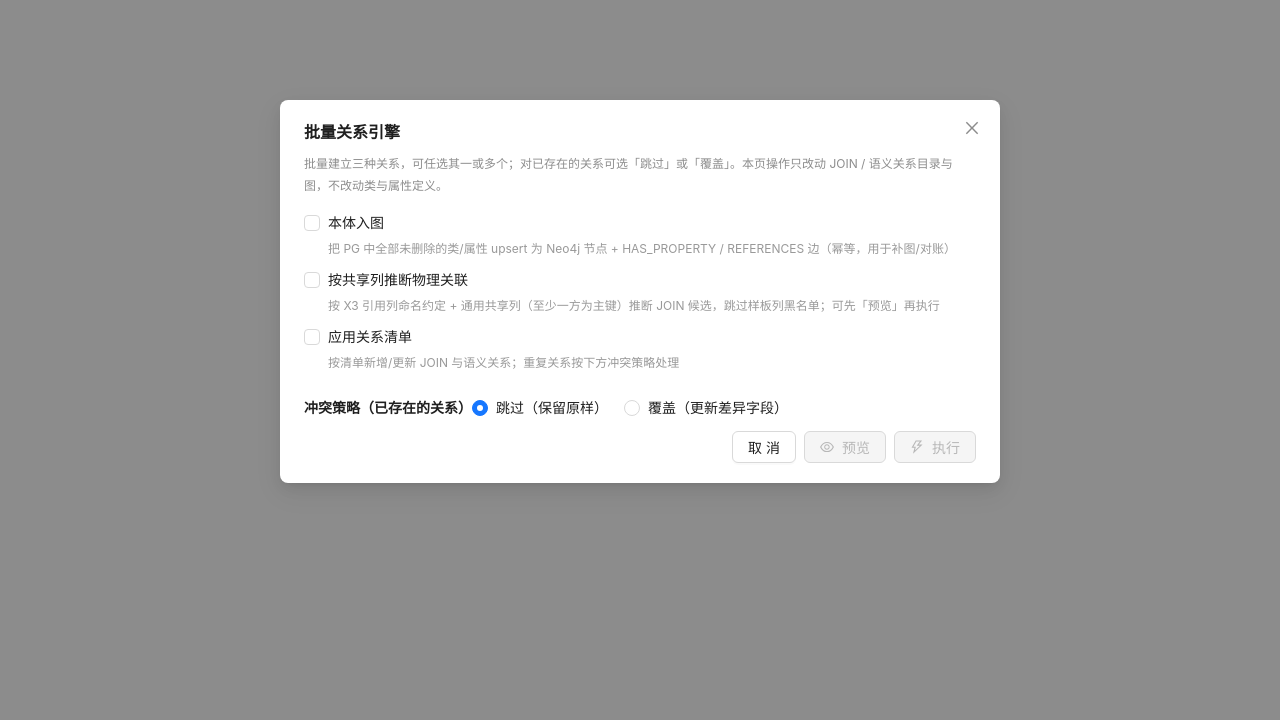
Test: BatchRelationModal — 渲染 › CSV 文件选择后调 parseBatchCsv 回填 manifest
Click the checkbox labelled "应用关系清单": (362, 337) [304,326,420,348]
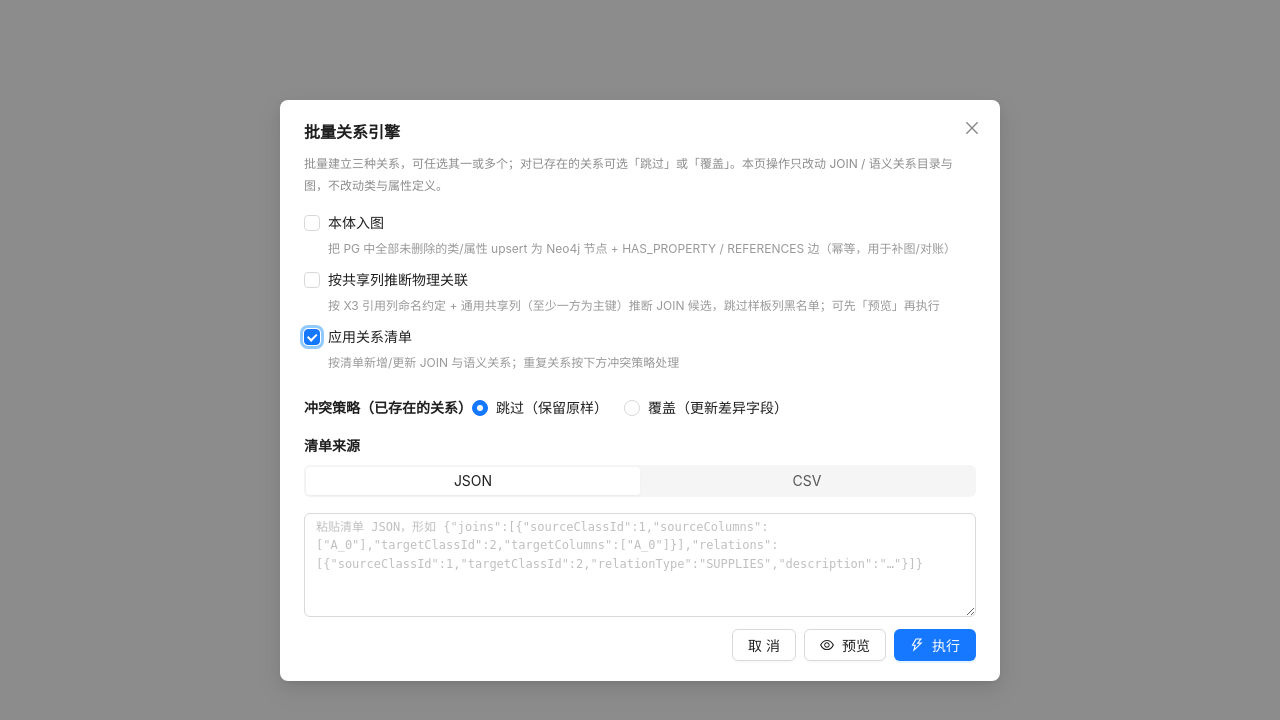
Click the text "CSV": (807, 480) [793,472,822,488]
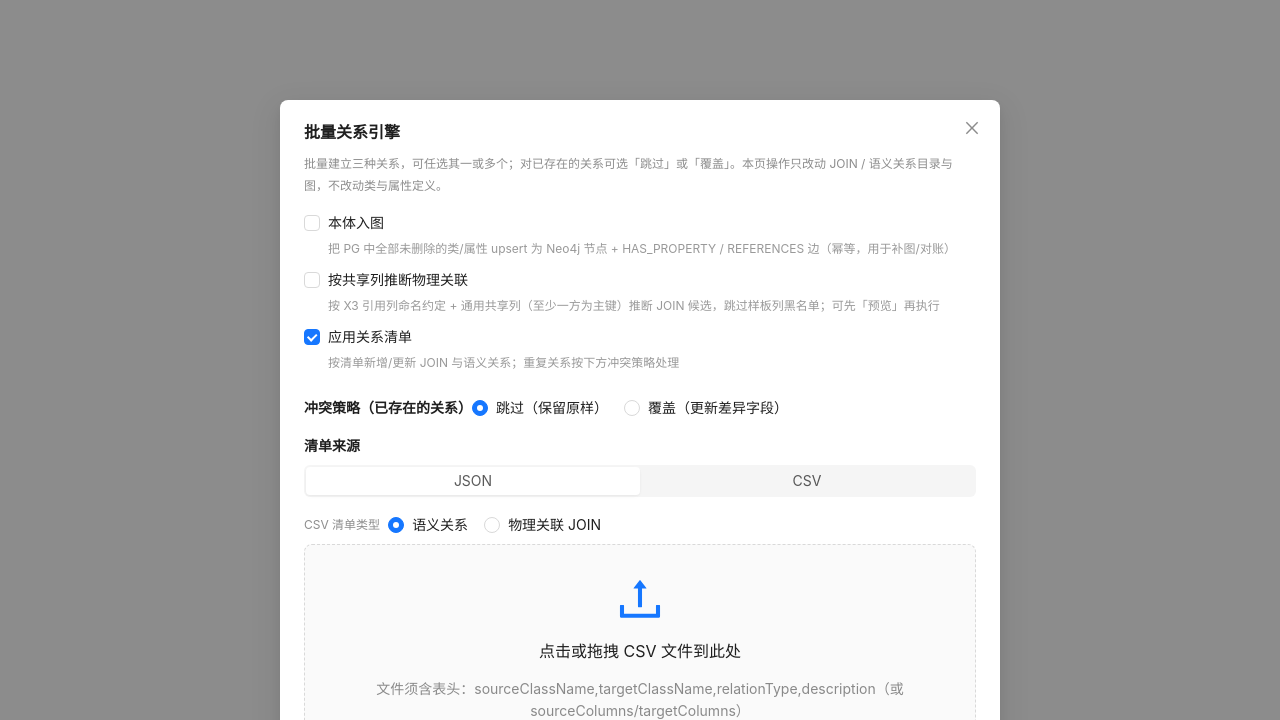
Result: the button that starts with "点击或拖拽 CSV 文件到此处" is shown at [376,575,904,719]
